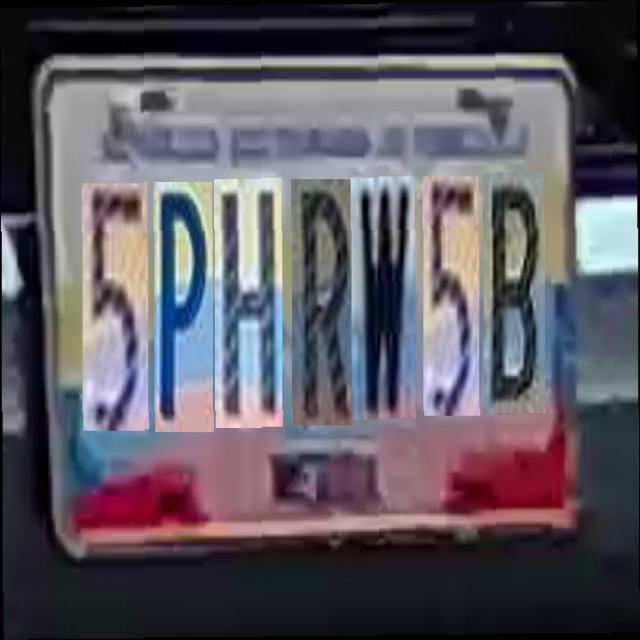5: (81, 178, 148, 426), (422, 174, 478, 414)
B: (483, 172, 544, 413)
H: (214, 175, 282, 424)
P: (154, 178, 212, 428)
R: (292, 176, 352, 422)
W: (350, 175, 414, 417)
